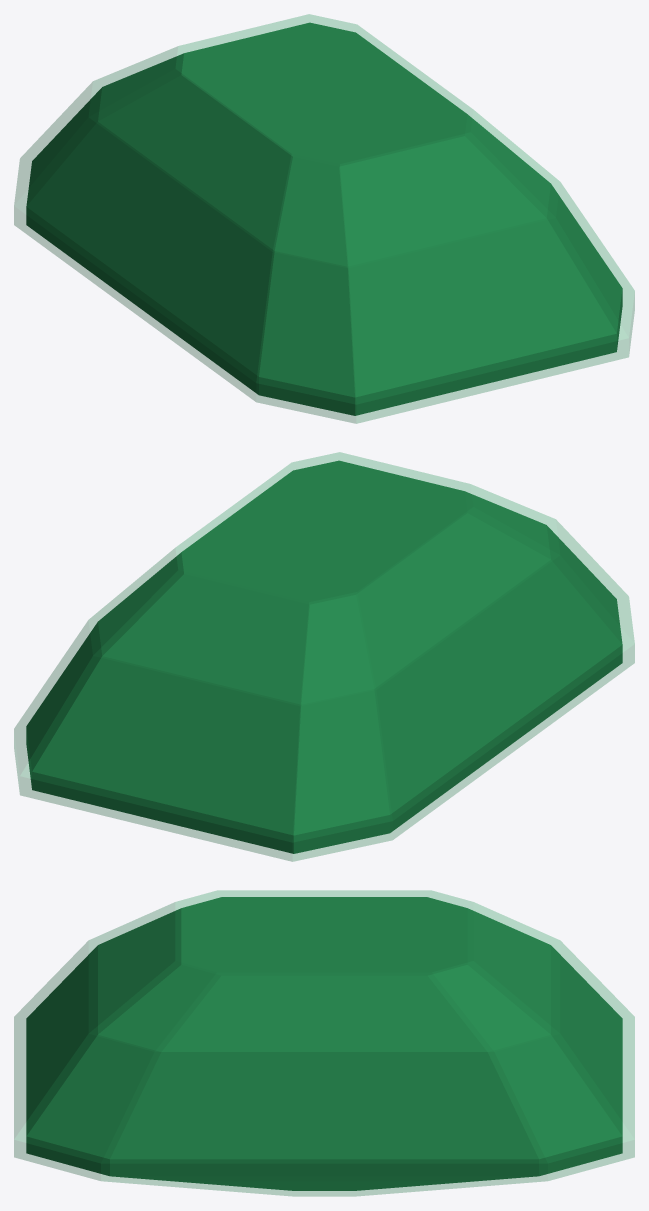
The model's file is item_7item197.glb.
3 views of the same model, one above another, from view 1: azimuth 30°, elevation 25°; view 2: azimuth 150°, elevation 25°; view 3: azimuth 270°, elevation 25° (orthographic). The views are drawn at different scales.
Parts seen in each view (by area): view 1: jewellery_7item197_glass, jewellery_7item197; view 2: jewellery_7item197_glass, jewellery_7item197; view 3: jewellery_7item197_glass, jewellery_7item197.
Part boxes in pixels (bbox=[...]): jewellery_7item197_glass: bbox=[14, 14, 634, 423]; jewellery_7item197: bbox=[26, 22, 622, 415]; jewellery_7item197_glass: bbox=[14, 452, 634, 861]; jewellery_7item197: bbox=[26, 460, 622, 853]; jewellery_7item197_glass: bbox=[14, 890, 634, 1196]; jewellery_7item197: bbox=[26, 897, 622, 1190].
Bounding box in the file's own units: 0.65 × 0.45 × 1.
